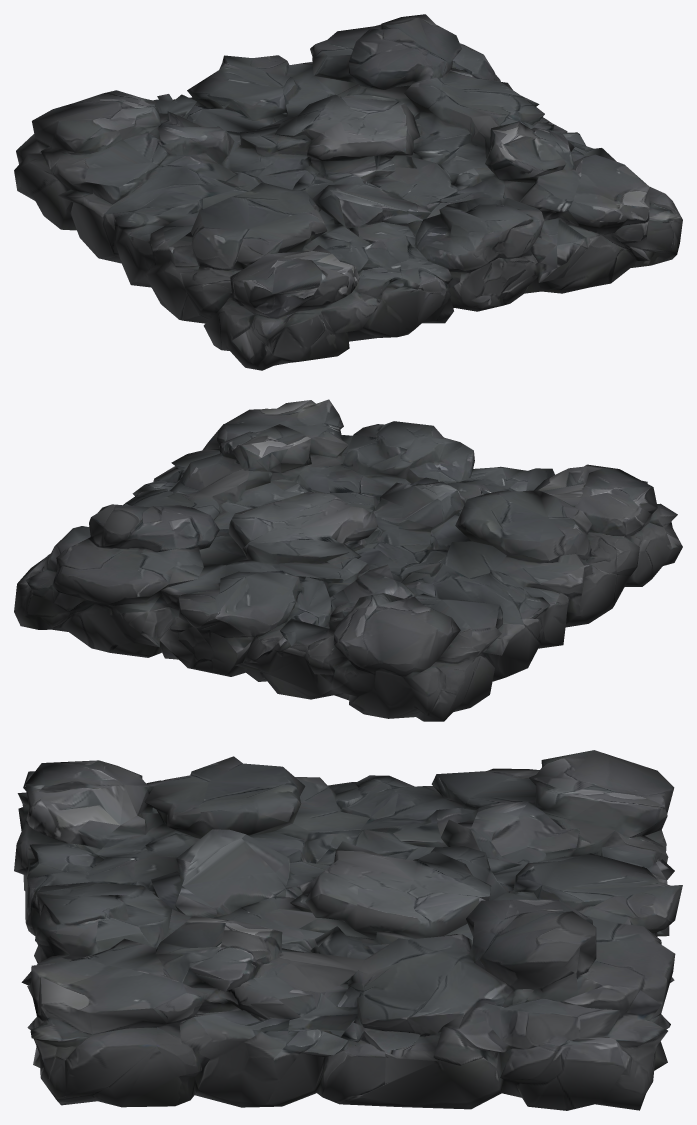
File: gnd_gothic_rock_bed.fbx
The picture shows the model from 3 angles, top to bottom: view 1: azimuth 30°, elevation 25°; view 2: azimuth 150°, elevation 25°; view 3: azimuth 270°, elevation 25°; orthographic projection. The views are drawn at different scales.
Parts seen in each view (by area): view 1: gnd_gothic_rock_bed_LOD0; view 2: gnd_gothic_rock_bed_LOD0; view 3: gnd_gothic_rock_bed_LOD0.
Boxes of the visible parts, bbox=[...] form: gnd_gothic_rock_bed_LOD0: bbox=[14, 14, 682, 370]; gnd_gothic_rock_bed_LOD0: bbox=[14, 399, 682, 721]; gnd_gothic_rock_bed_LOD0: bbox=[14, 750, 682, 1110].
Size of what is drawn, in the model's own units: 0.9757 by 0.2361 by 0.9812.
